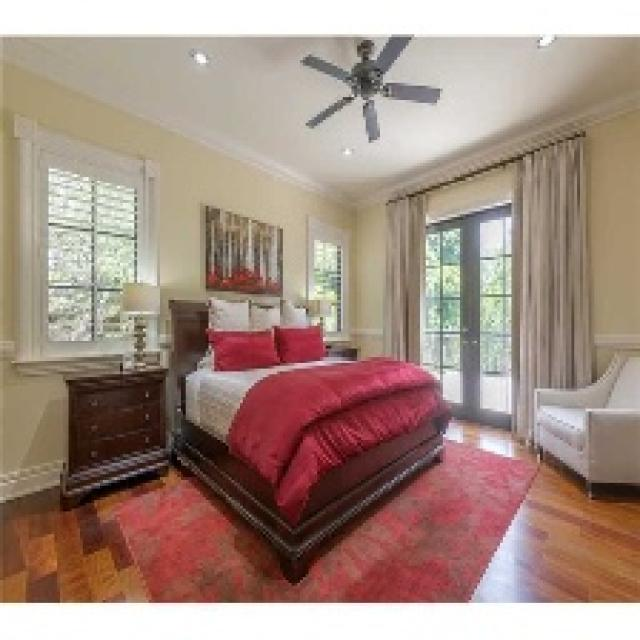Bed: (166, 294, 451, 583)
